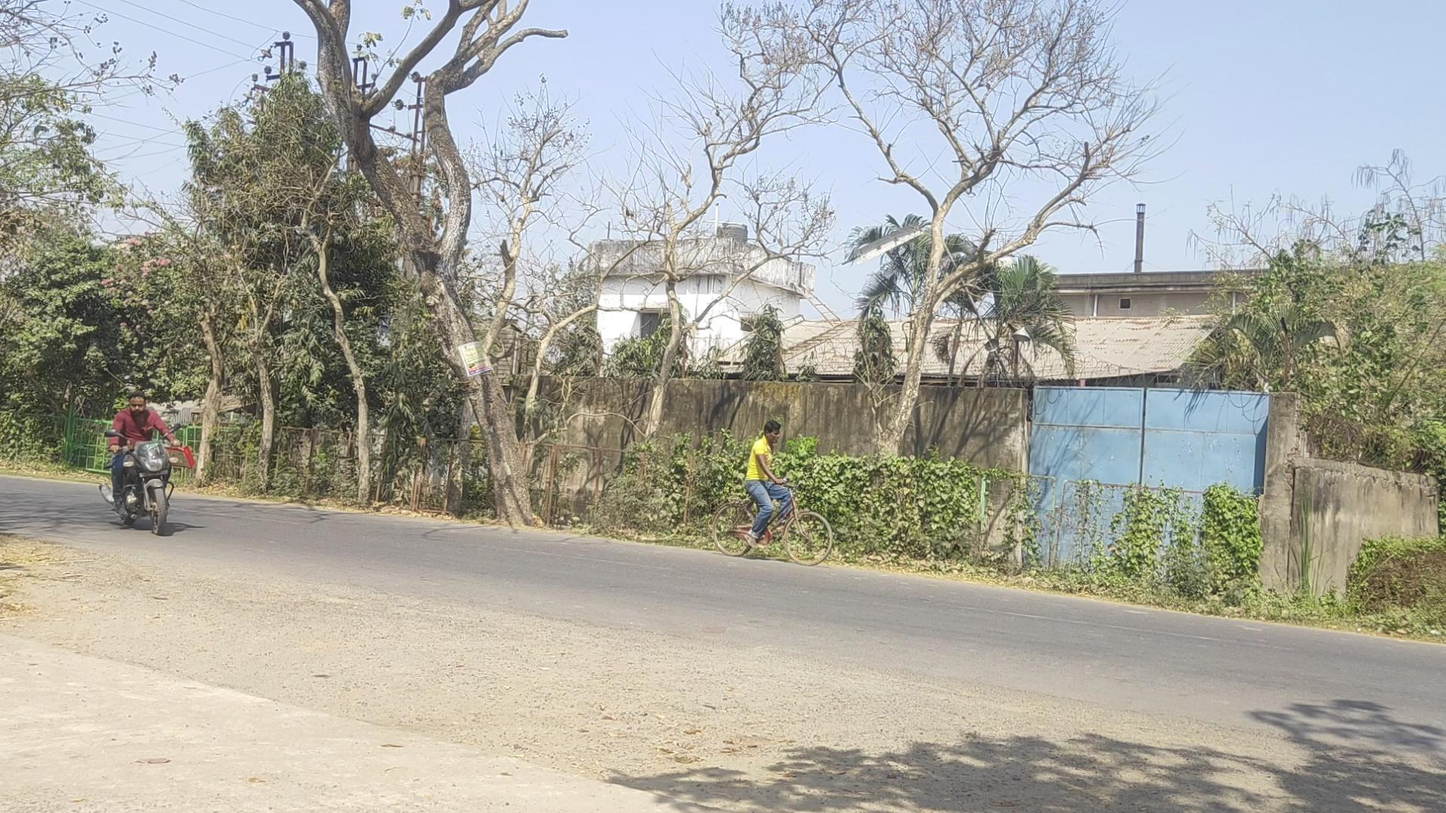bike: (712, 420, 833, 567), (99, 393, 192, 535)
